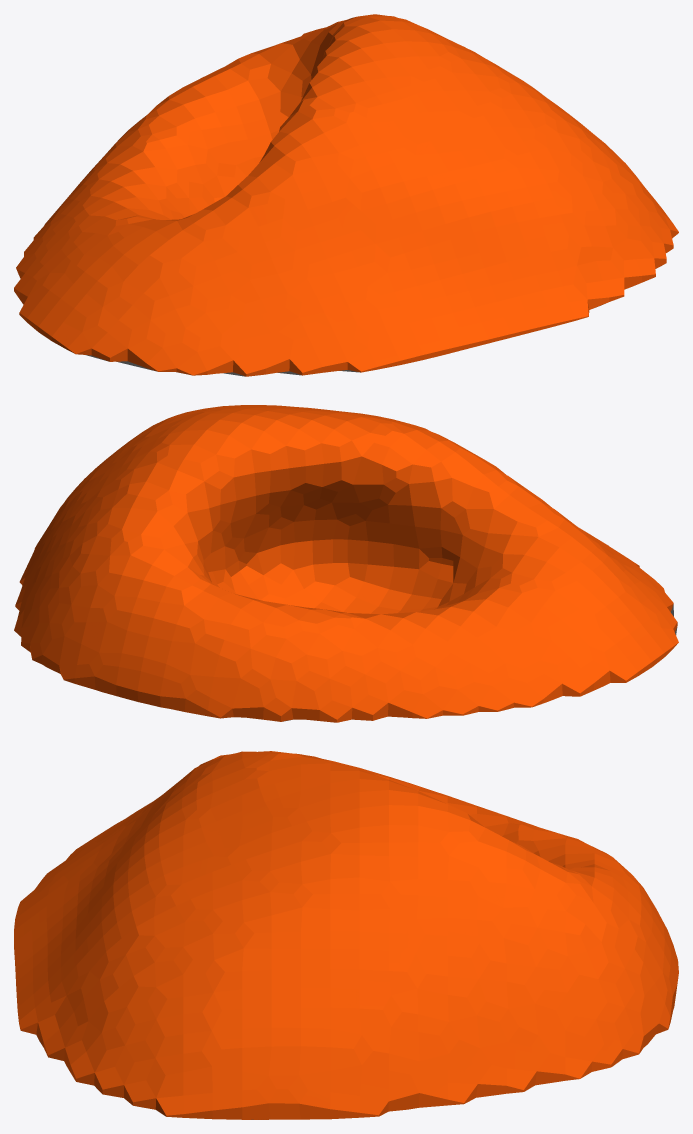
3 views of the same model, one above another, from view 1: azimuth 30°, elevation 25°; view 2: azimuth 150°, elevation 25°; view 3: azimuth 270°, elevation 25° (orthographic). The views are drawn at different scales.
Visible parts, largest first — view 1: 19.022; view 2: 19.022; view 3: 19.022.
Part boxes in pixels (box(x1,y1,x2,y2)): 19.022: box(14, 14, 678, 376); 19.022: box(14, 405, 678, 722); 19.022: box(14, 751, 678, 1119).
Bounding box in the file's own units: 13.27 × 3.91 × 11.32.
